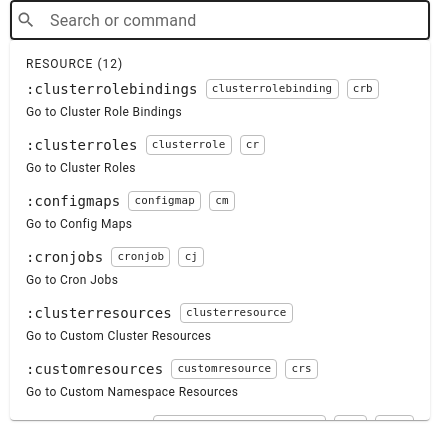
it: inline search, map options and namespace preference › hides a previously loaded Map target immediately on namespace changes
Type "api-7f" into the dropdown with placeholder "Search or command". click: [232, 20]
box: [42,6,421,34]
Wait 350 ms
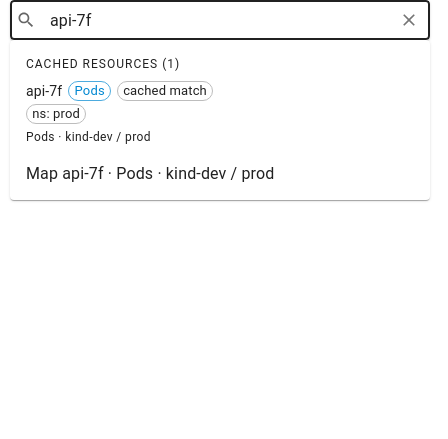
Expected: the option "Map api-7f · Pods · kind-dev / prod" is shown, [26,164,274,183]
